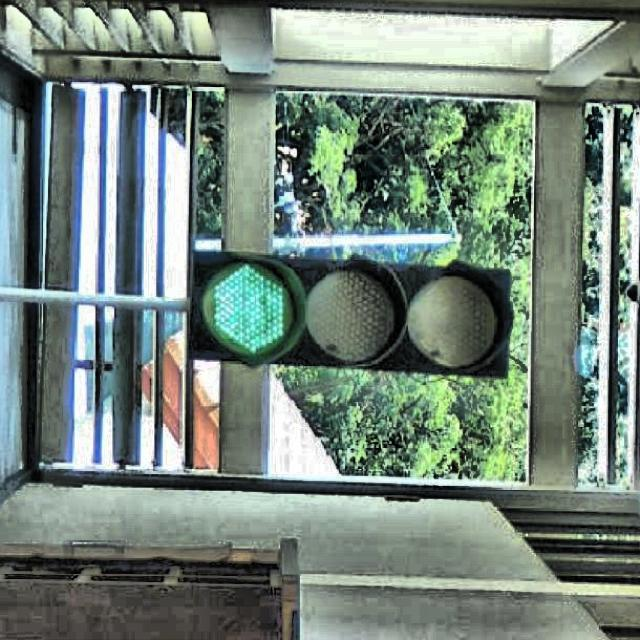green: (189, 257, 516, 369)
